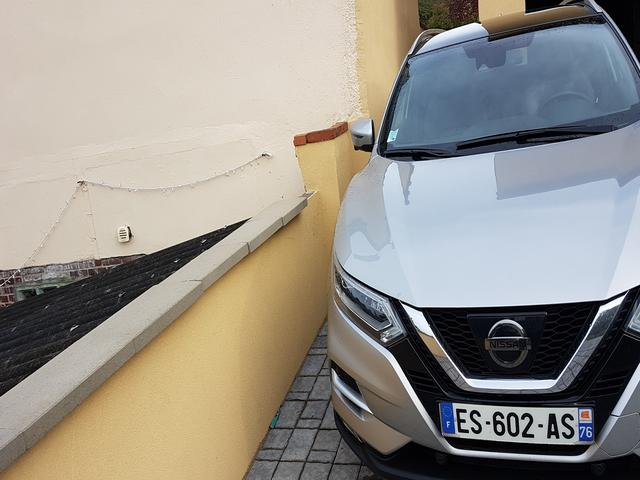Quashquai: (427, 398, 601, 446)
